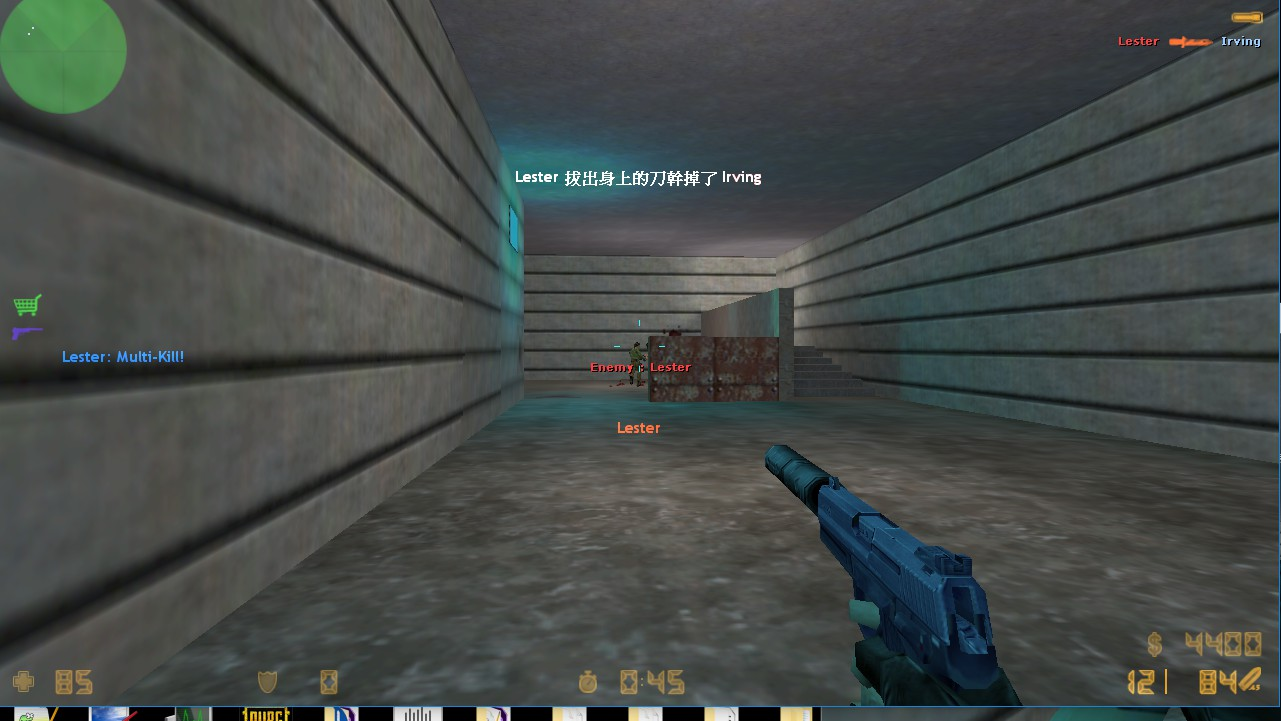person: (629, 340, 645, 388)
